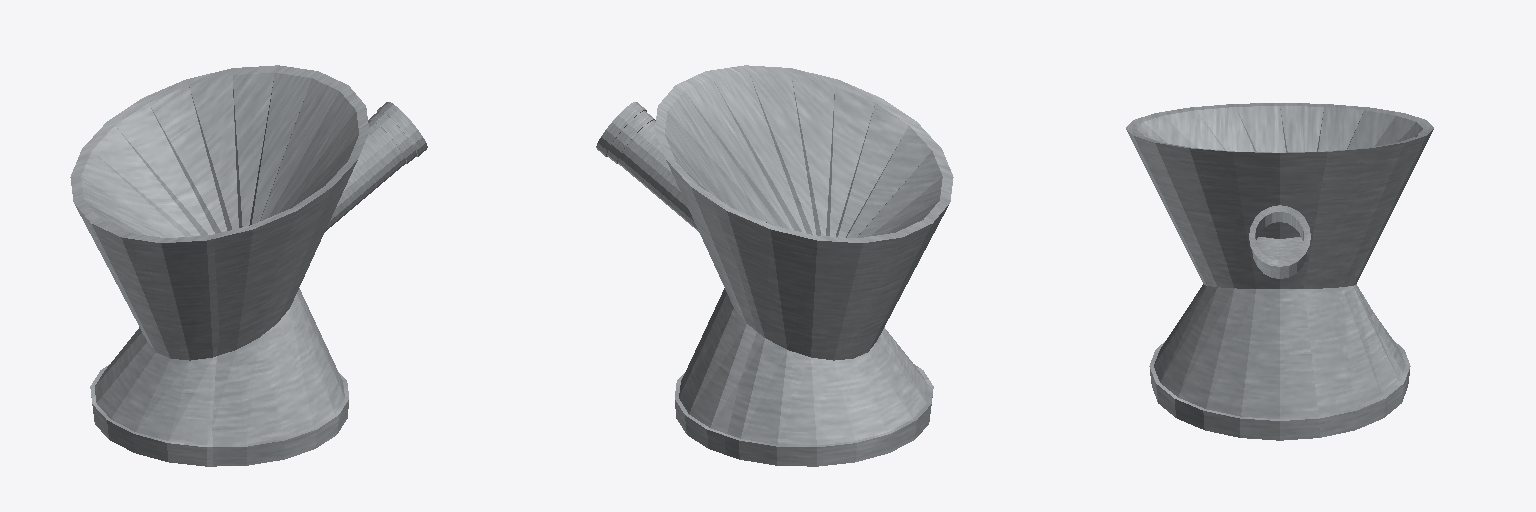
The picture shows the model from 3 angles: view 1: azimuth 30°, elevation 25°; view 2: azimuth 150°, elevation 25°; view 3: azimuth 270°, elevation 25°; orthographic projection.
Visible parts, largest first — view 1: pCylinder22; view 2: pCylinder22; view 3: pCylinder22.
Boxes of the visible parts, x1=… form: pCylinder22: x1=70, y1=65, x2=427, y2=466; pCylinder22: x1=596, y1=65, x2=953, y2=466; pCylinder22: x1=1126, y1=103, x2=1433, y2=440.
Bounding box in the file's own units: 1.18 × 1.02 × 0.9593.
1 materials, 1 textured.